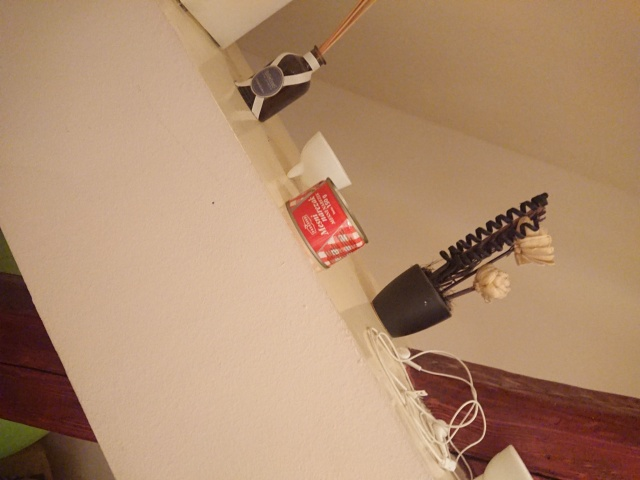Podravka Luncheon Meat 150g: (284, 176, 371, 271)
